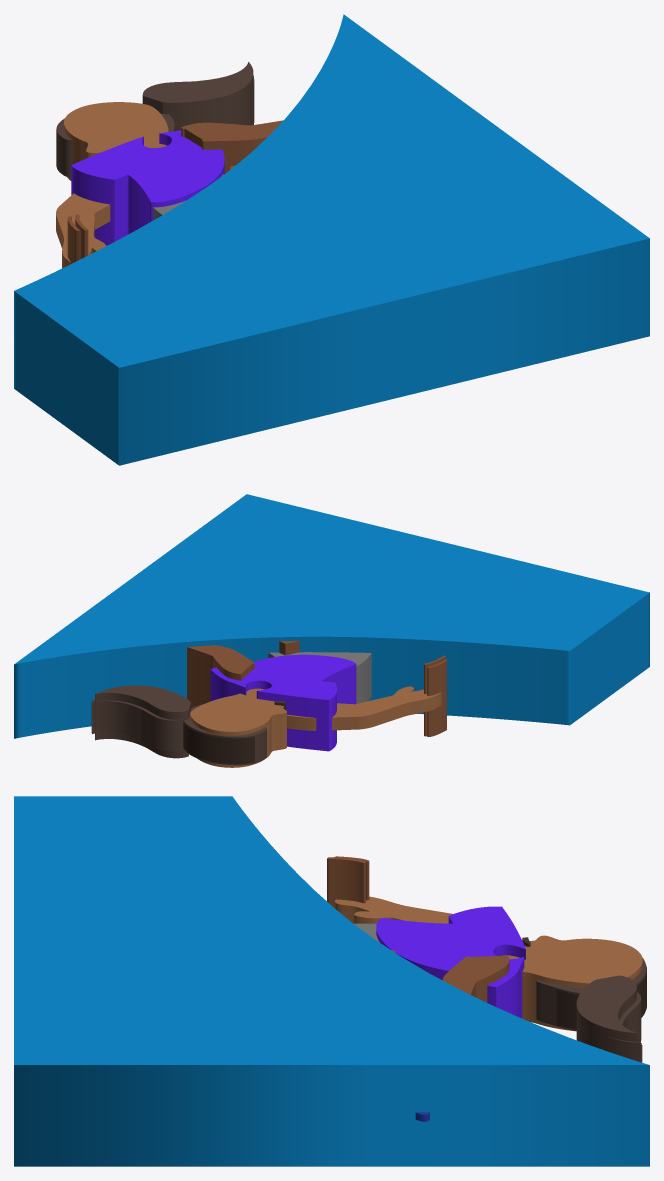
Rendered from emoji_u1f3c4_1f3fe_200d_2640.glb.
3 views of the same model, one above another, from view 1: azimuth 30°, elevation 25°; view 2: azimuth 150°, elevation 25°; view 3: azimuth 270°, elevation 25° (orthographic). The views are drawn at different scales.
Parts seen in each view (by area): view 1: emoji_u1f3c4_1f3fe_200d_2640; view 2: emoji_u1f3c4_1f3fe_200d_2640; view 3: emoji_u1f3c4_1f3fe_200d_2640.
Boxes of the visible parts, <box> form: emoji_u1f3c4_1f3fe_200d_2640: <box>14,14,649,465</box>; emoji_u1f3c4_1f3fe_200d_2640: <box>14,494,649,767</box>; emoji_u1f3c4_1f3fe_200d_2640: <box>14,796,649,1166</box>.
Bounding box in the file's own units: 0.0332 × 0.0058 × 0.0329.
